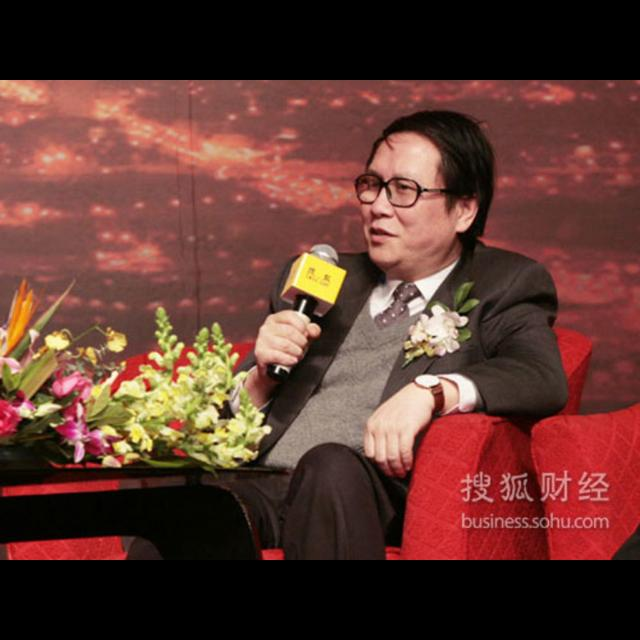Flower: (60, 324, 240, 464), (411, 306, 469, 356)
